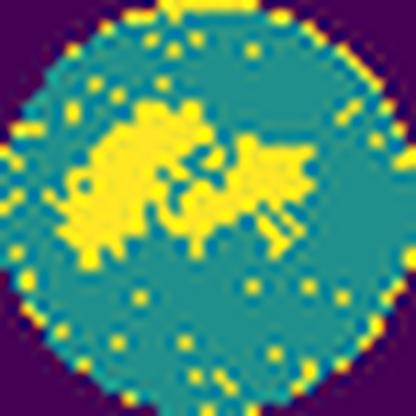Loc: (44, 97, 323, 276)
